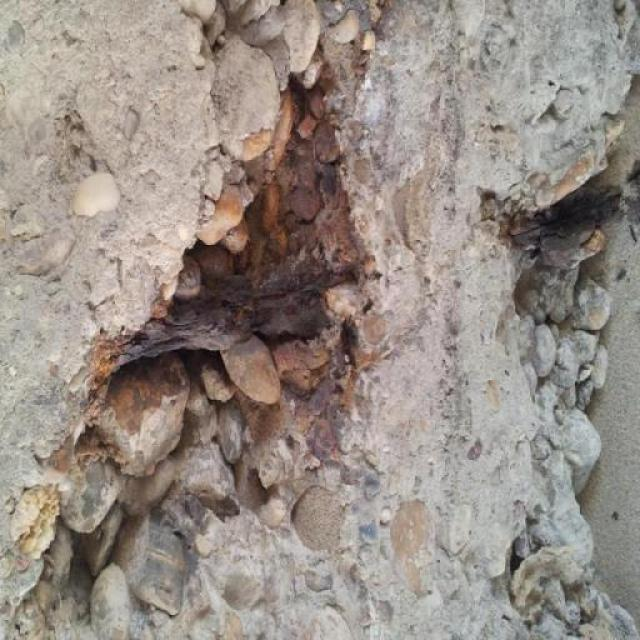D10: (5, 0, 639, 639)
